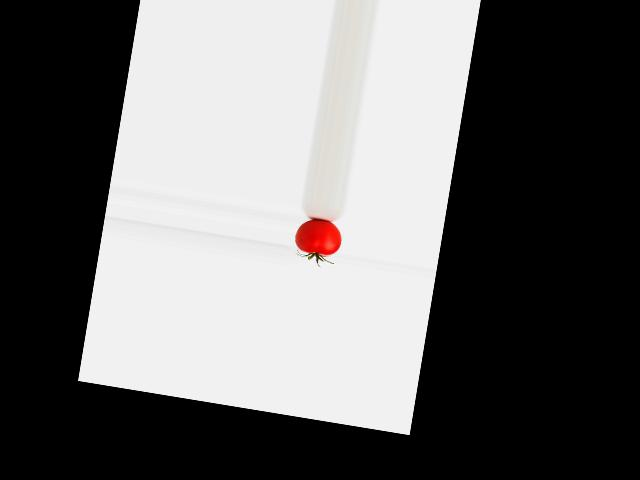tomato: (293, 216, 344, 257)
